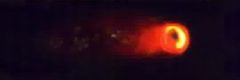keyhole: (168, 28, 181, 42)
